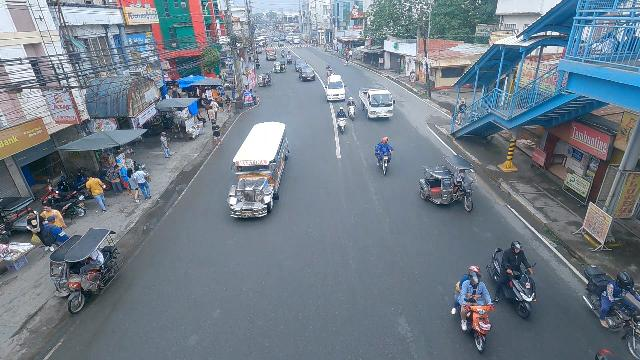car: (324, 74, 346, 103), (298, 66, 315, 83), (278, 41, 284, 46)
jeepney: (226, 120, 289, 220), (265, 47, 277, 61)
motorcycle: (581, 264, 640, 360), (486, 241, 540, 321), (450, 262, 494, 355), (374, 136, 393, 177), (335, 107, 348, 135), (346, 98, 357, 123), (326, 65, 333, 78), (255, 57, 261, 69), (280, 49, 286, 58)
truck: (357, 86, 395, 120)
